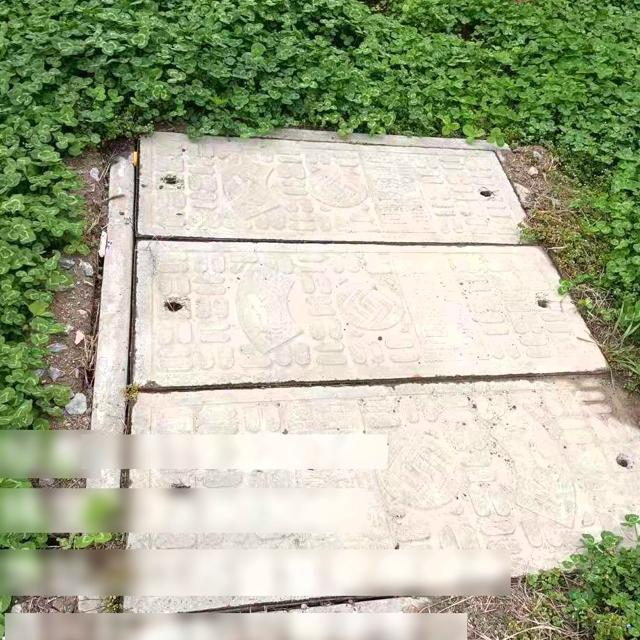good: (82, 115, 640, 640)
